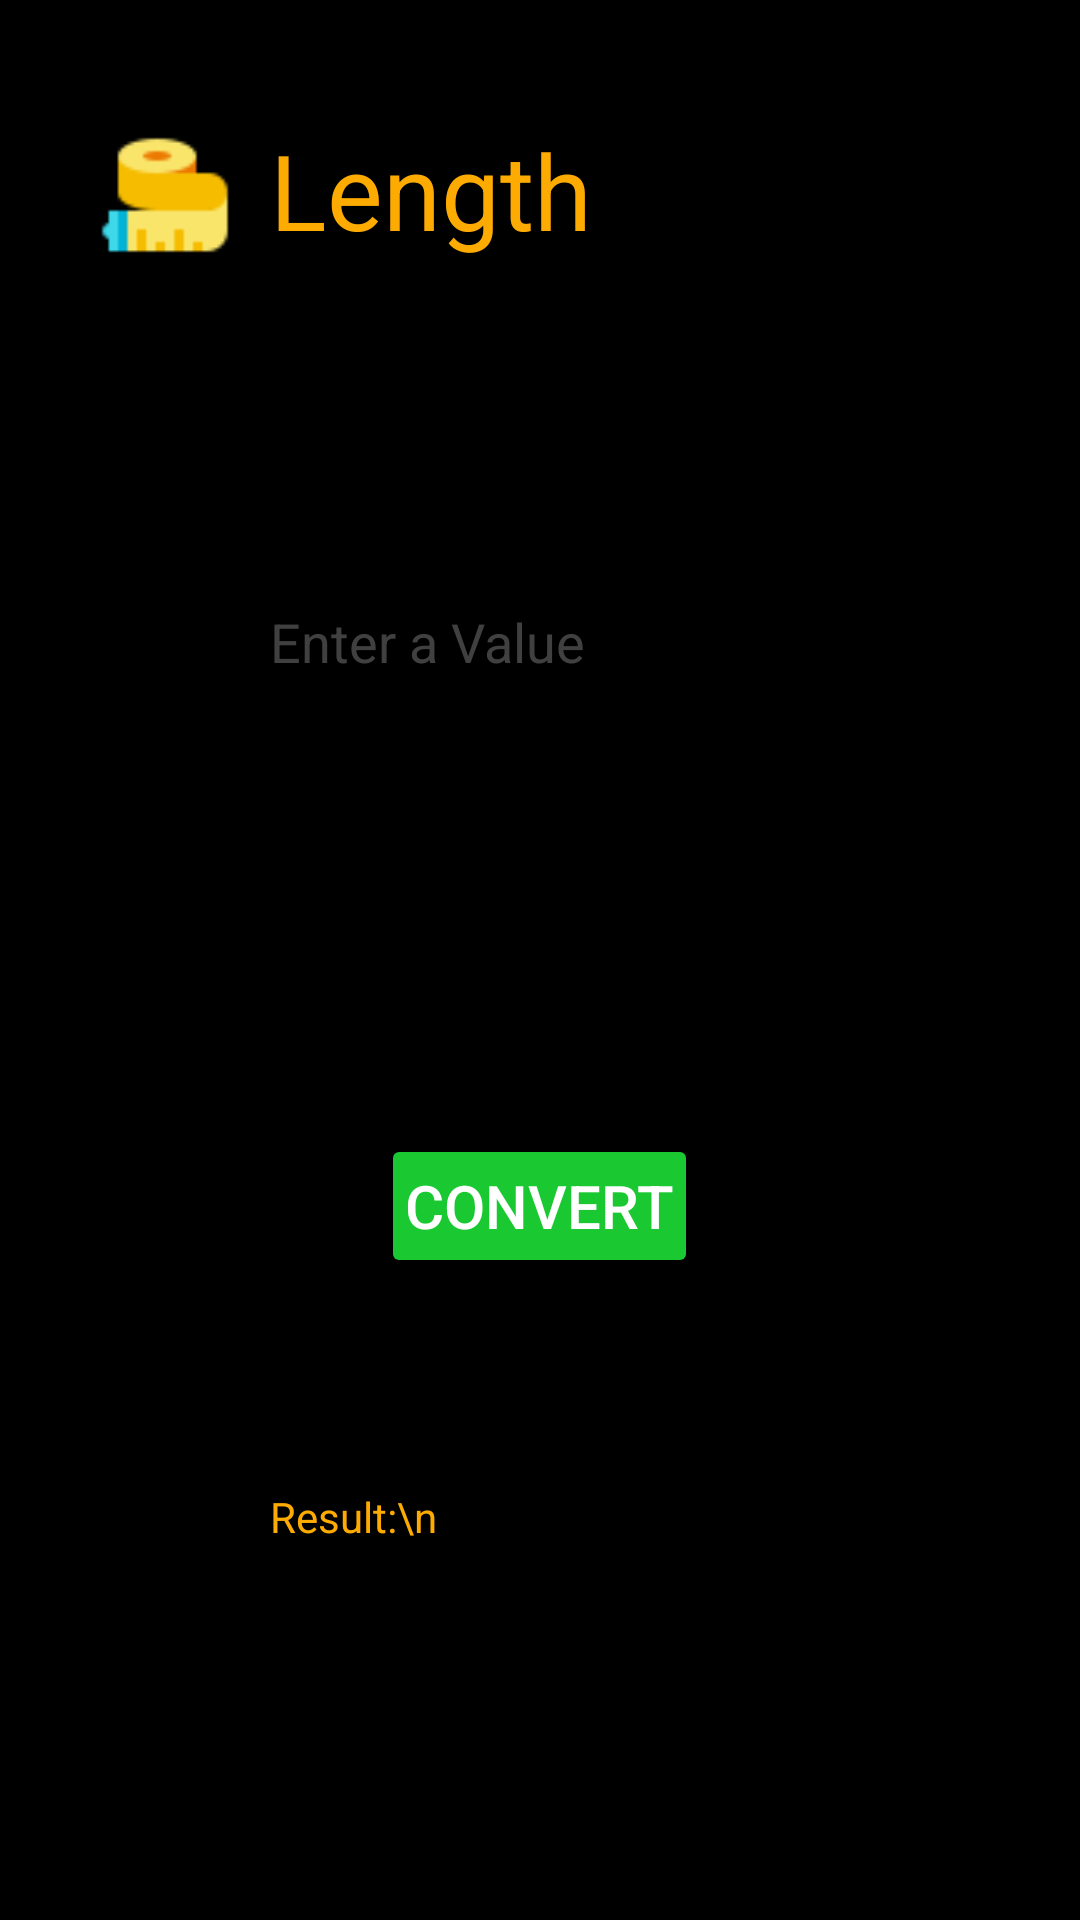

Screen size 1080 × 1920. Icon name, then its box in pixels as (x1, y1, x2, y2):
My App Icon: (101, 137, 229, 253)
